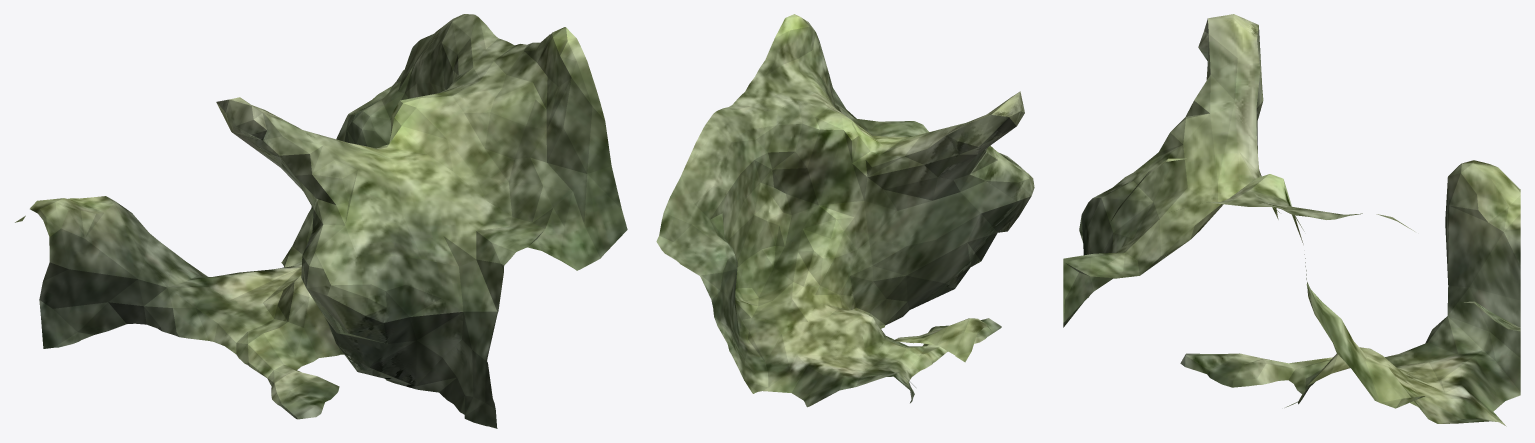
3 views of the same model, side by side, from view 1: azimuth 30°, elevation 25°; view 2: azimuth 150°, elevation 25°; view 3: azimuth 270°, elevation 25° (orthographic). The views are drawn at different scales.
Bounding box in the file's own units: 2.95 × 2.36 × 2.95.
Materials: 4 (4 with a texture image).
